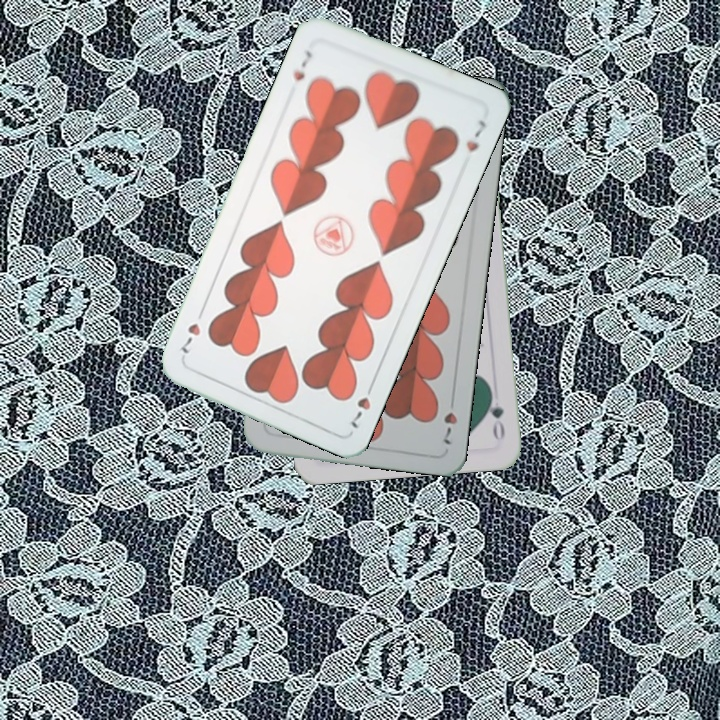GO: (483, 385, 507, 444)
H7: (346, 377, 377, 431), (439, 391, 460, 447), (289, 46, 315, 84)
